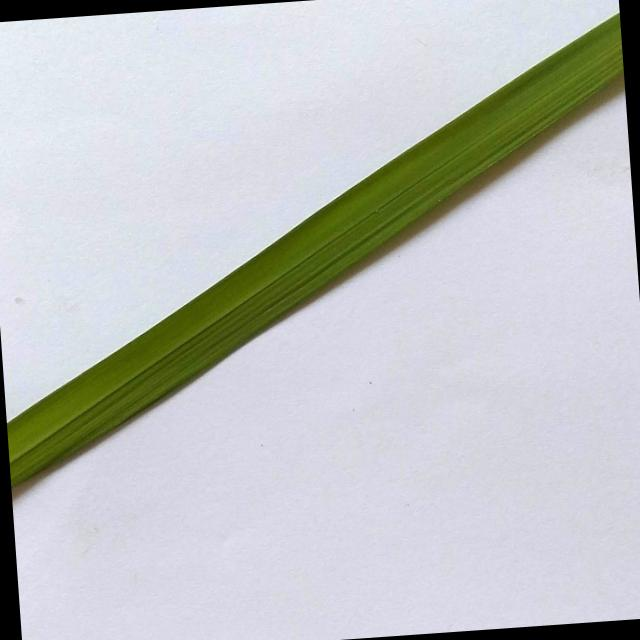Rice_Healthy: (6, 13, 623, 486)
